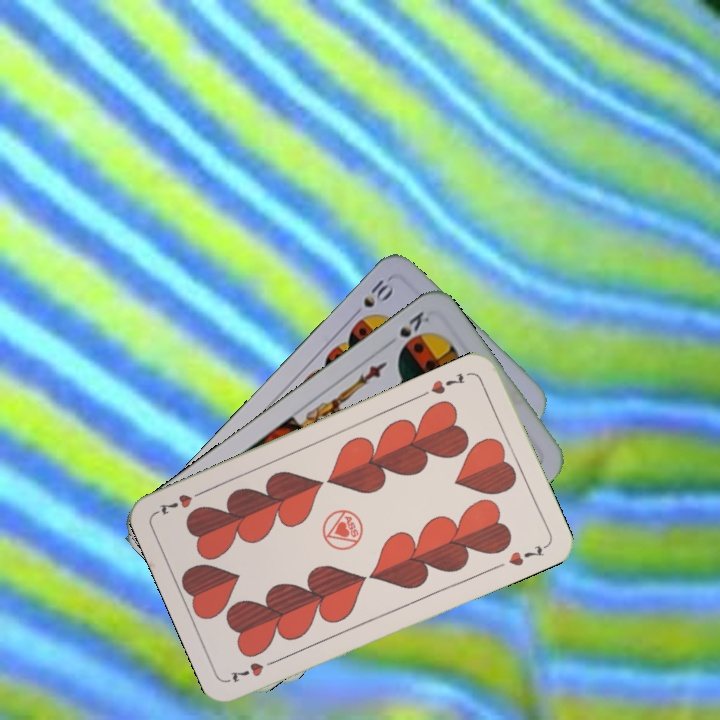H7: (225, 654, 282, 685), (426, 368, 468, 397)
S10: (347, 272, 398, 321)
SK: (395, 307, 432, 340)
